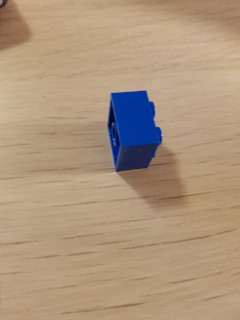2x2 blue: (104, 88, 165, 176)
